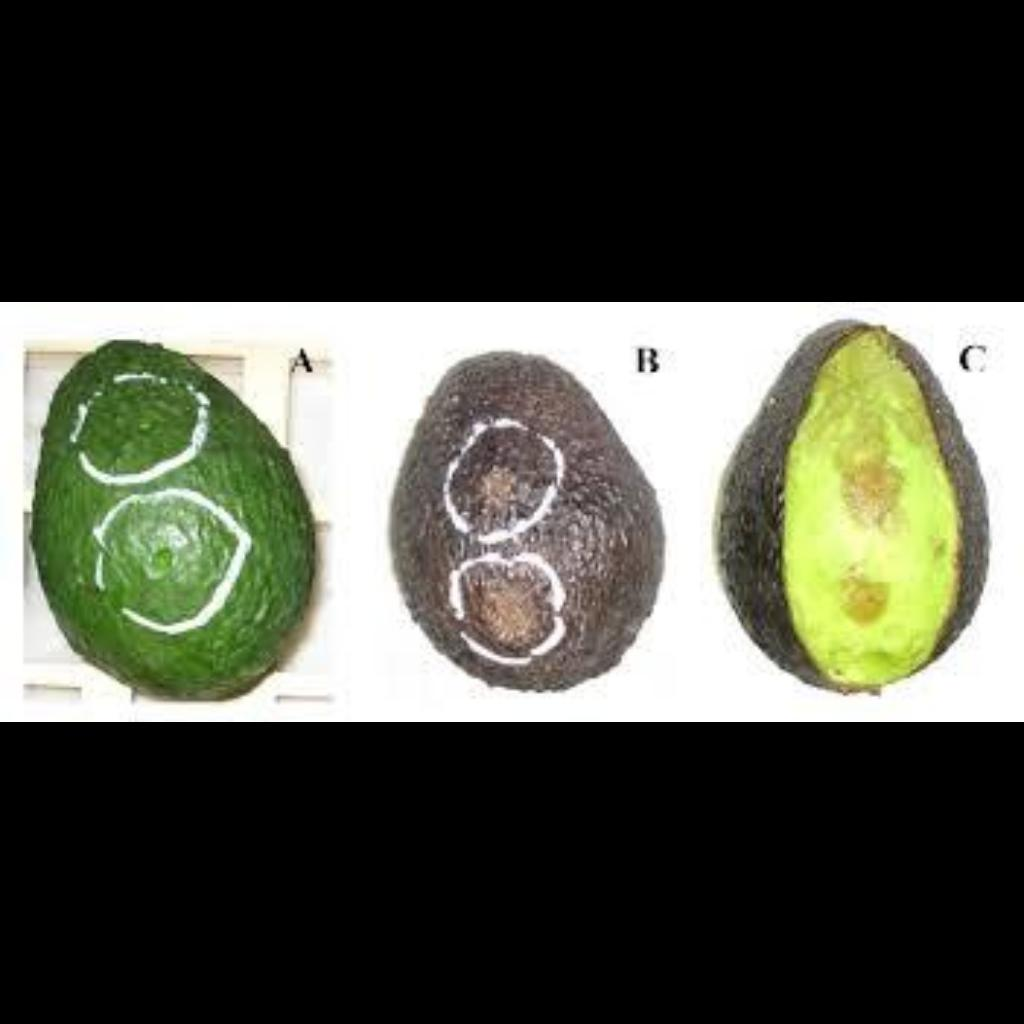Anthracnose: (394, 347, 662, 691)
